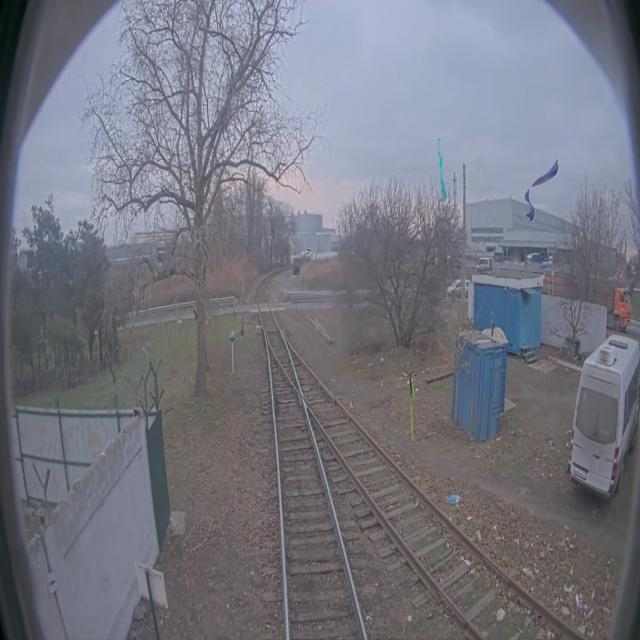floating object: (524, 158, 559, 222), (438, 136, 447, 200), (408, 375, 414, 439)
